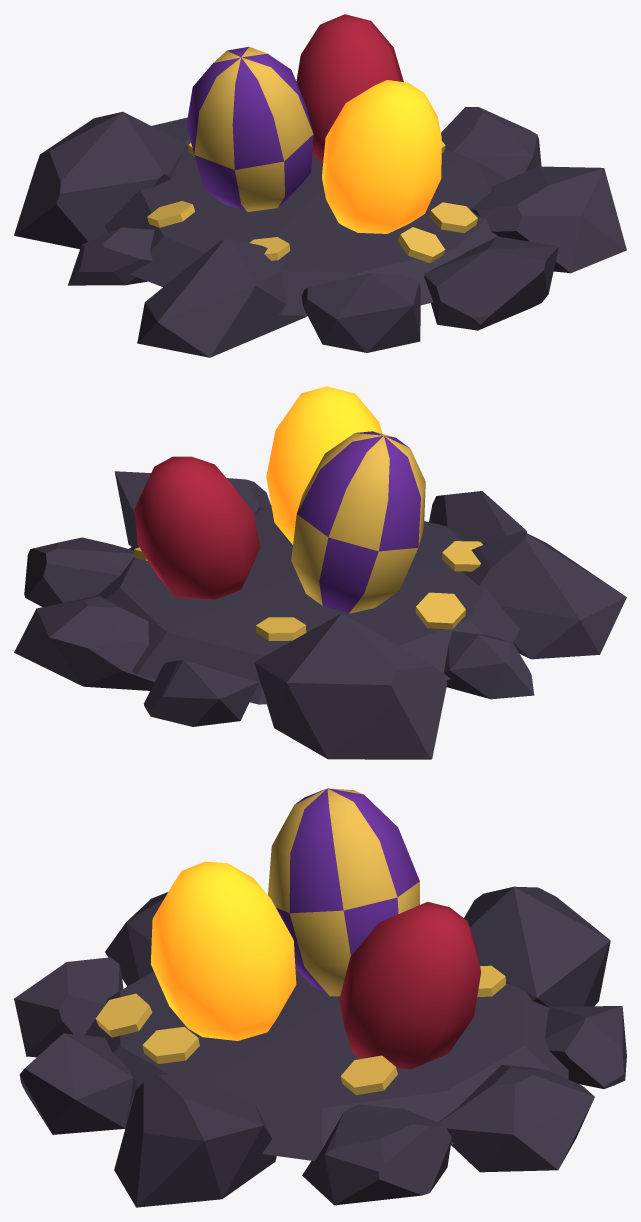
Rendered from dragon_egg_nest.glb.
3 views of the same model, one above another, from view 1: azimuth 30°, elevation 25°; view 2: azimuth 150°, elevation 25°; view 3: azimuth 270°, elevation 25° (orthographic). The views are drawn at different scales.
Parts seen in each view (by area): view 1: dragon_egg_nest; view 2: dragon_egg_nest; view 3: dragon_egg_nest.
Part boxes in pixels (x1,y1,x2,y2): dragon_egg_nest: (14, 14, 626, 357); dragon_egg_nest: (14, 386, 626, 759); dragon_egg_nest: (14, 788, 626, 1207).
Bounding box in the file's own units: 1.38 × 0.5814 × 1.3.
